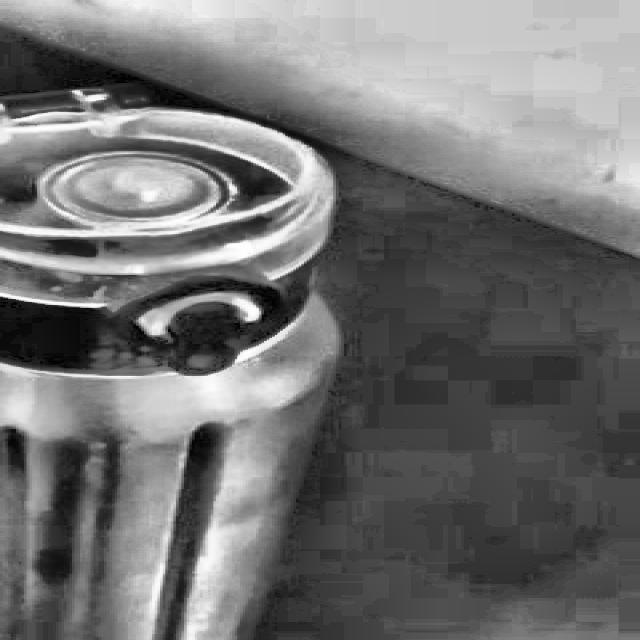bottle: (0, 110, 344, 640)
